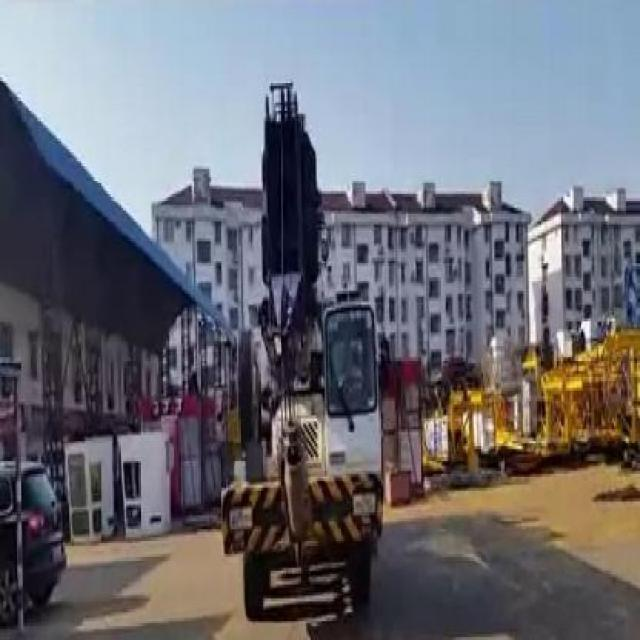Mobile Crane: (219, 77, 384, 612)
